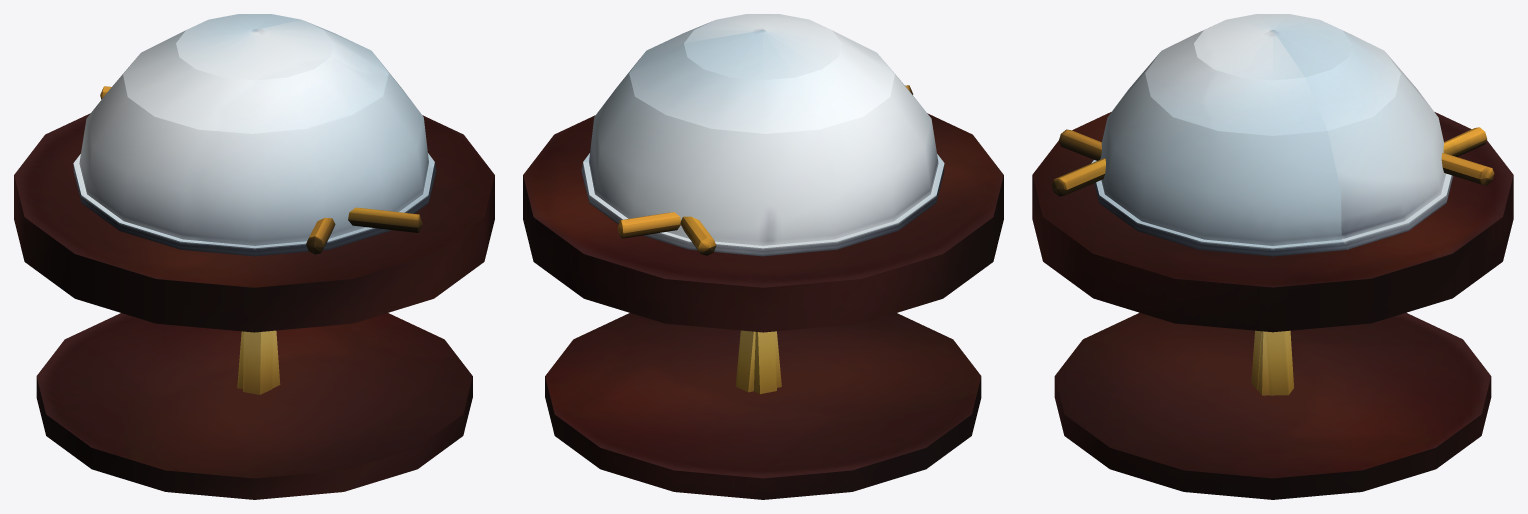
The model's file is Tx_props_baveragetrolley_35.fbx.
The picture shows the model from 3 angles, left to right: view 1: azimuth 30°, elevation 25°; view 2: azimuth 150°, elevation 25°; view 3: azimuth 270°, elevation 25°; orthographic projection.
Parts seen in each view (by area): view 1: Tx_props_baveragetrolley_6; view 2: Tx_props_baveragetrolley_6; view 3: Tx_props_baveragetrolley_6.
Part boxes in pixels (box(x1,y1,x2,y2)): Tx_props_baveragetrolley_6: box(14, 14, 494, 499); Tx_props_baveragetrolley_6: box(523, 14, 1003, 499); Tx_props_baveragetrolley_6: box(1032, 14, 1513, 499).
Size of the model in its own units: 4.24 by 4.48 by 4.26.
